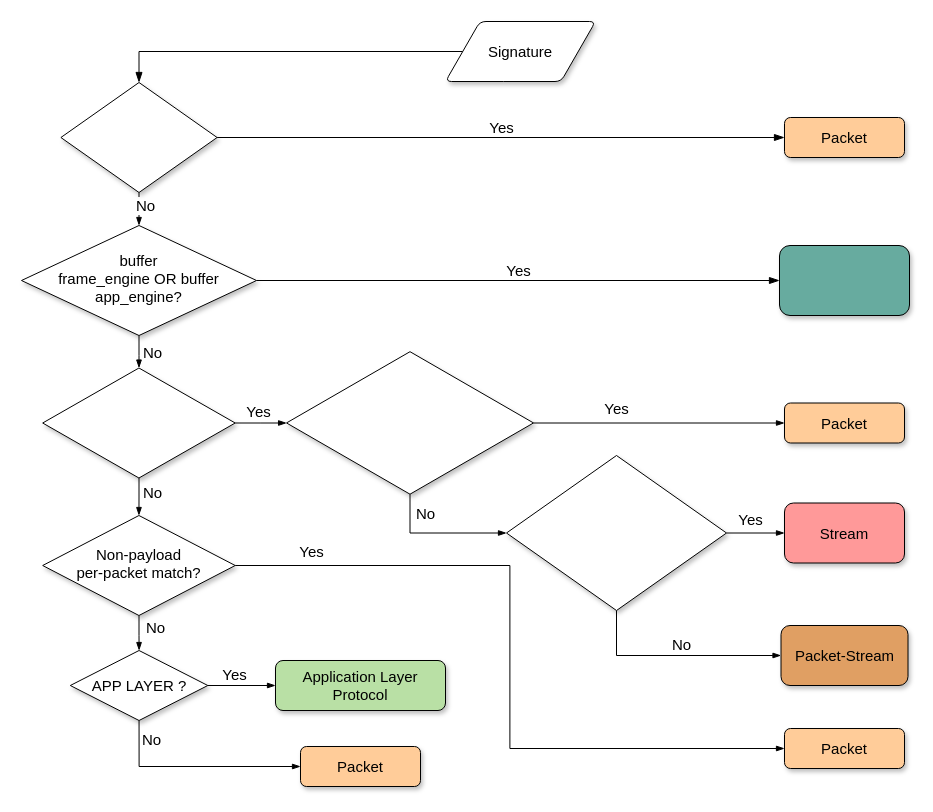
The diagram is 933 pixels wide and 812 high, and some of its shapes have lost their labels. Here are the shapes that lost their labels. From the top down, the centre of each, then its label:
the point at 139,139: buffer packet_engine?
the point at 845,281: Application Layer Protocol Transaction
the point at 139,424: Payload and/or Stream match?
the point at 411,424: flag REQUIRE_PACKET and not flag REQUIRE_STREAM
the point at 617,534: flag REQUIRE_STREAM and not flag REQUIRE_PACKET
